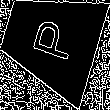P_W: (24, 15, 77, 66)
